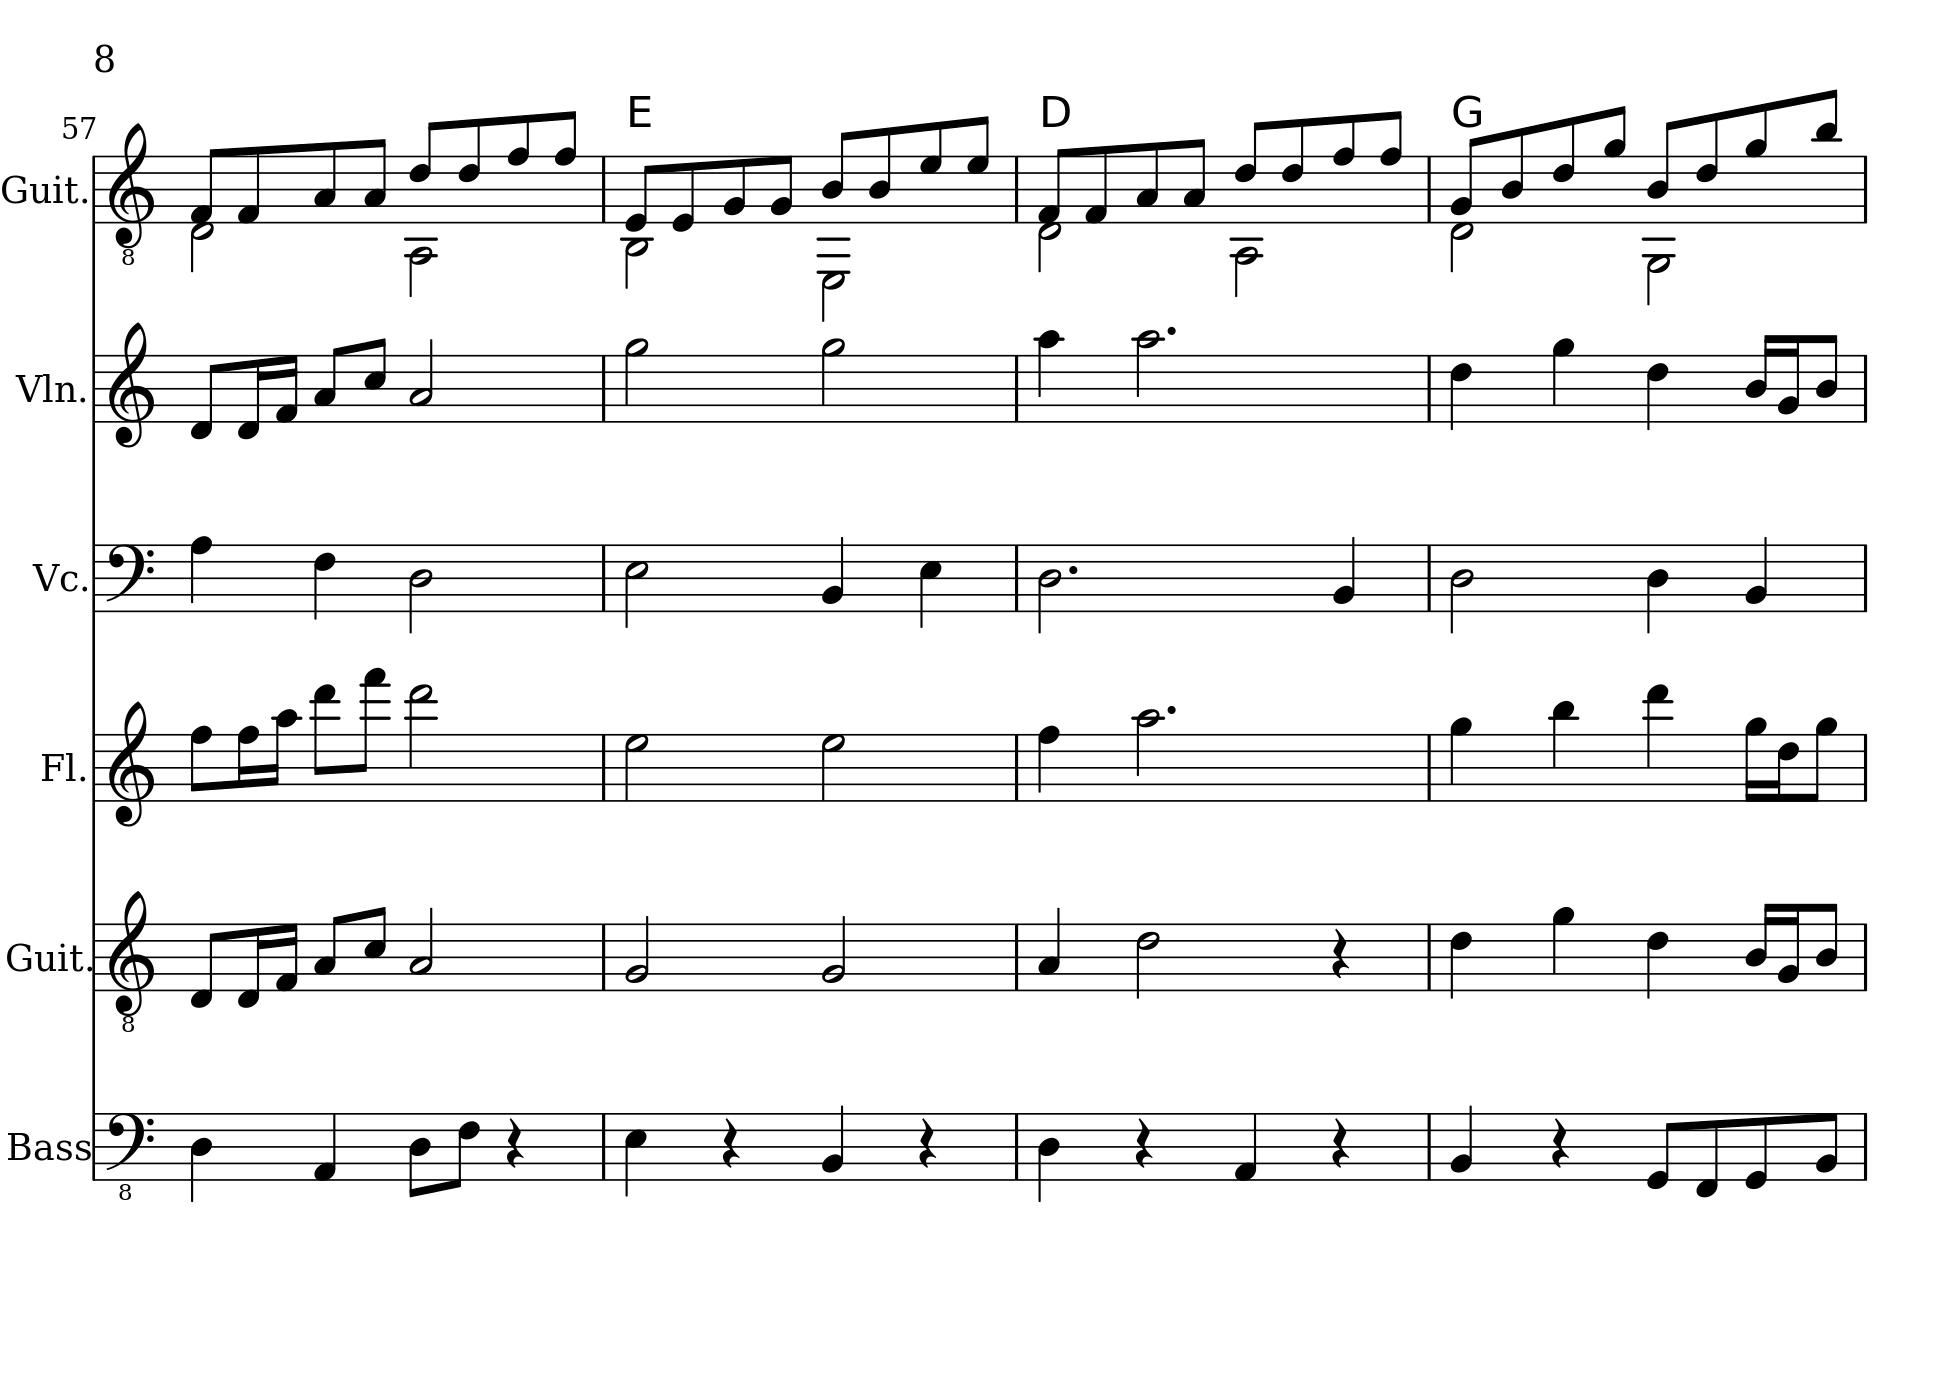16_-1: (234, 352, 265, 441), (235, 921, 267, 1009)
16_1: (273, 352, 298, 424), (273, 921, 298, 993)
16_10: (267, 708, 298, 802)
16_2: (1777, 331, 1801, 423), (1776, 900, 1800, 991)
16_4: (1743, 331, 1774, 421), (1743, 900, 1774, 990)
16_6: (1770, 732, 1800, 802)
16_8: (235, 724, 259, 802)
16_9: (1743, 715, 1767, 802)
2_10: (1131, 328, 1164, 424), (1134, 706, 1162, 802)
2_13: (403, 684, 436, 802)
2_2: (622, 912, 651, 991), (820, 913, 847, 991)
2_3: (406, 336, 433, 423), (406, 904, 433, 991)
2_4: (1035, 541, 1062, 634), (1447, 541, 1474, 633), (406, 541, 433, 631)
2_5: (622, 541, 648, 628)
2_6: (1134, 921, 1161, 1000)
2_7: (819, 729, 847, 802), (622, 730, 649, 802)
2_9: (819, 336, 847, 424), (622, 336, 649, 424)
4_1: (1231, 1111, 1258, 1183), (312, 1111, 337, 1182)
4_10: (1033, 327, 1065, 424)
4_13: (1642, 682, 1672, 802)
4_2: (1449, 1102, 1476, 1183), (820, 532, 846, 613), (1332, 532, 1357, 613), (820, 1102, 846, 1182), (1744, 532, 1770, 610)
4_3: (1036, 904, 1062, 991)
4_4: (1035, 1108, 1062, 1204), (1644, 541, 1671, 633), (187, 1110, 213, 1204)
4_5: (916, 541, 943, 630), (622, 1110, 646, 1198)
4_6: (1447, 919, 1473, 1000), (1447, 352, 1473, 430), (1644, 352, 1669, 430), (310, 541, 334, 621), (1644, 921, 1668, 1000)
4_8: (1035, 723, 1062, 802), (187, 534, 211, 613)
4_9: (1549, 334, 1575, 423), (1551, 903, 1575, 991), (1449, 715, 1473, 802)
5: (61, 112, 78, 139)
7: (79, 112, 96, 141)
8: (93, 40, 115, 73)
8_-1: (187, 352, 222, 441), (187, 921, 220, 1009), (1693, 1108, 1720, 1198)
8_0: (1644, 1110, 1677, 1191), (624, 153, 655, 232), (670, 153, 697, 232), (1743, 1110, 1770, 1189)
8_1: (1083, 142, 1110, 225), (235, 142, 261, 225)
8_11: (1812, 87, 1840, 225), (1549, 697, 1576, 802)
8_13: (309, 682, 339, 802)
8_15: (354, 664, 388, 802)
8_2: (720, 153, 747, 225), (768, 153, 793, 225), (1815, 1111, 1839, 1182)
8_3: (312, 343, 343, 423), (312, 913, 343, 991), (310, 139, 337, 225), (1134, 139, 1161, 225), (361, 136, 385, 225), (1182, 136, 1206, 225)
8_4: (1645, 118, 1678, 225), (820, 129, 852, 225), (865, 124, 892, 226), (1500, 124, 1527, 223), (1815, 331, 1839, 423), (1815, 900, 1839, 991), (406, 1110, 430, 1198)
8_5: (361, 334, 387, 423), (361, 904, 387, 991)
8_6: (1233, 118, 1267, 226), (406, 117, 439, 225), (1551, 114, 1578, 225), (454, 115, 481, 225), (1693, 111, 1719, 225), (1279, 115, 1305, 225), (447, 1110, 480, 1189)
8_7: (964, 114, 990, 225), (918, 118, 943, 223)
8_8: (550, 108, 577, 225), (1377, 108, 1404, 225), (504, 112, 531, 225), (1330, 112, 1356, 225), (187, 724, 213, 802)
8_9: (1743, 102, 1768, 223), (1602, 103, 1627, 223), (1804, 715, 1837, 802)
Bass: (1, 1125, 96, 1168)
Fclef: (103, 541, 153, 613)
Fl: (37, 747, 78, 787)
Gclef: (106, 321, 156, 448), (106, 699, 154, 828)
Guit: (3, 934, 84, 979), (1, 169, 79, 210)
Lower_Fclef: (103, 1108, 154, 1201)
Lower_Gclef: (105, 120, 157, 265), (106, 889, 156, 1033)
Rests4: (1132, 1114, 1155, 1170), (1548, 1114, 1570, 1170), (718, 1114, 741, 1168), (1329, 1114, 1350, 1171), (1329, 925, 1350, 981), (502, 1114, 523, 1170), (916, 1114, 937, 1170)
Single_barline: (1008, 733, 1029, 799), (1420, 733, 1440, 799), (1420, 922, 1440, 988), (595, 1111, 613, 1179), (1008, 1111, 1026, 1179), (1422, 355, 1440, 421), (595, 544, 613, 610), (1008, 544, 1026, 610), (595, 733, 613, 799), (1008, 922, 1026, 988), (1009, 355, 1027, 420), (595, 154, 612, 222), (1422, 154, 1438, 222), (1857, 154, 1873, 222), (1422, 543, 1438, 610), (595, 922, 612, 990), (1857, 922, 1873, 990), (1422, 1111, 1438, 1179), (1009, 154, 1026, 220), (1857, 544, 1873, 610), (1857, 733, 1873, 799), (595, 355, 612, 420), (87, 922, 102, 991), (1858, 354, 1873, 421), (87, 355, 102, 421), (87, 733, 102, 799), (87, 154, 100, 223), (1860, 1111, 1873, 1180), (87, 544, 100, 612), (88, 1111, 102, 1179)
Vc: (25, 559, 84, 594)
Vln: (13, 367, 78, 409)
dot: (1065, 561, 1080, 577), (1164, 322, 1179, 337), (1165, 703, 1179, 717)
